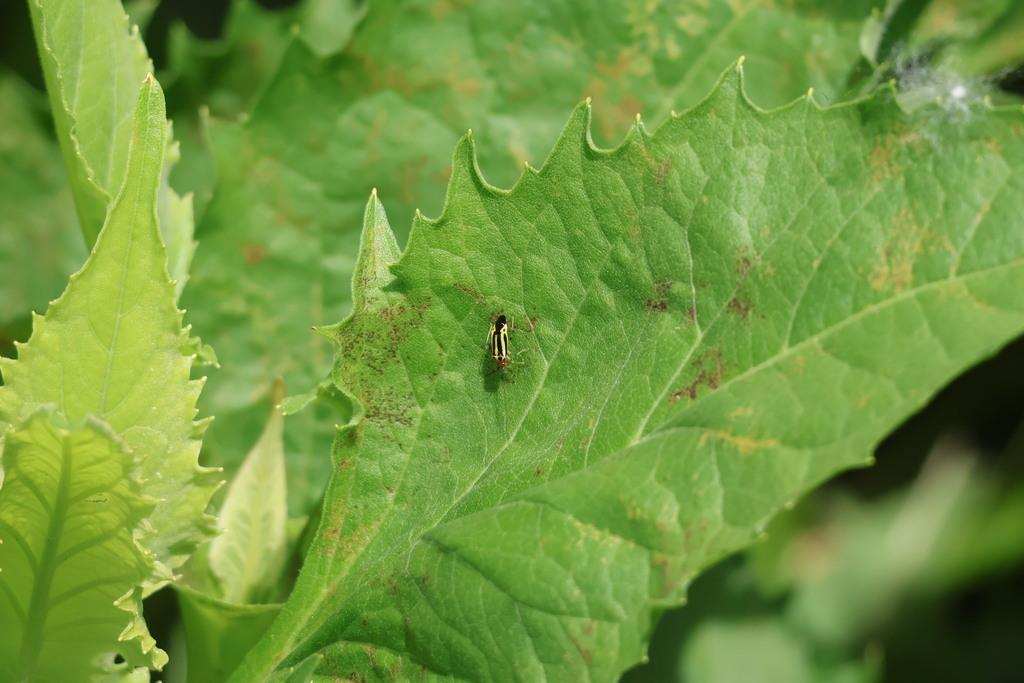plant_bugs: (463, 302, 535, 393)
